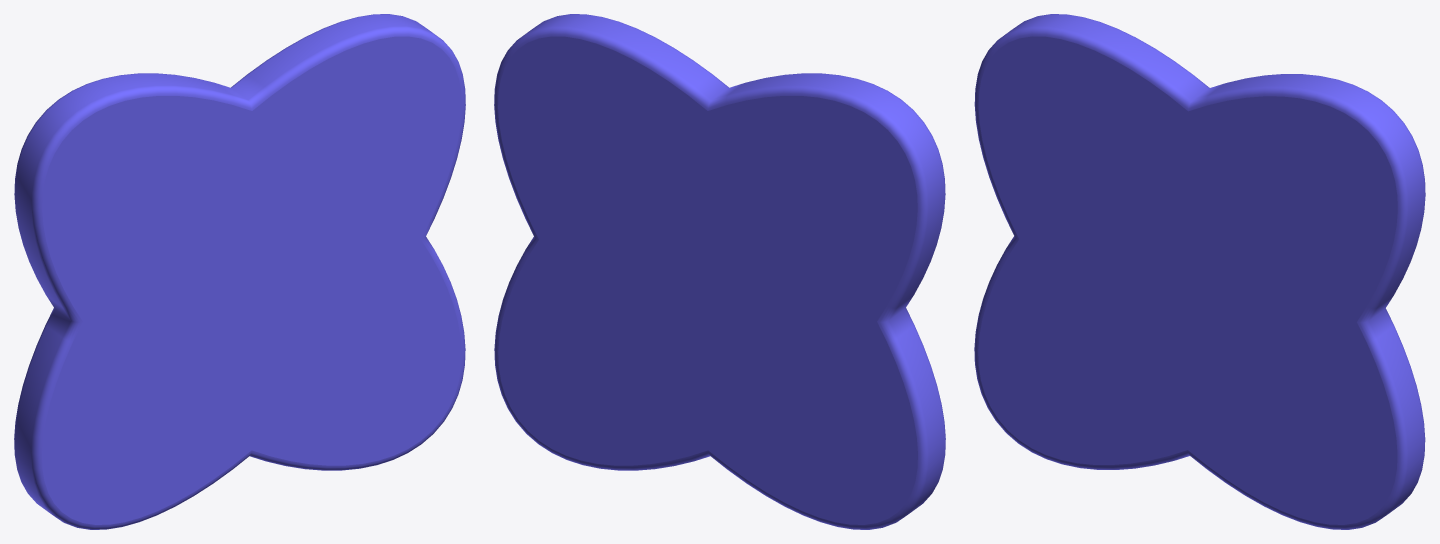
File: save3.fbx
The picture shows the model from 3 angles, left to right: view 1: azimuth 30°, elevation 25°; view 2: azimuth 150°, elevation 25°; view 3: azimuth 330°, elevation 25°; orthographic projection.
Visible parts, largest first — view 1: Curve.001; view 2: Curve.001; view 3: Curve.001.
Boxes of the visible parts, x1,y1,x2,y2 form: Curve.001: (14,14,465,529); Curve.001: (494,14,945,529); Curve.001: (974,14,1425,529).
Size of the model in its own units: 4.08 by 3.92 by 0.3894.
